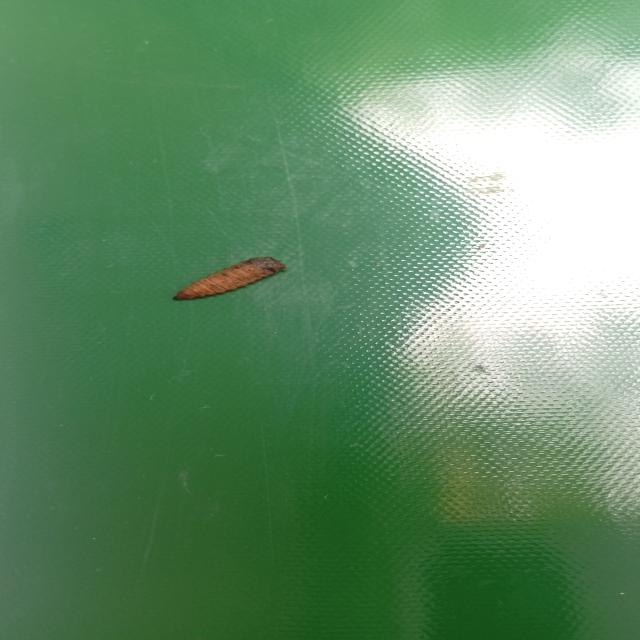Maggot: (174, 258, 286, 303)
